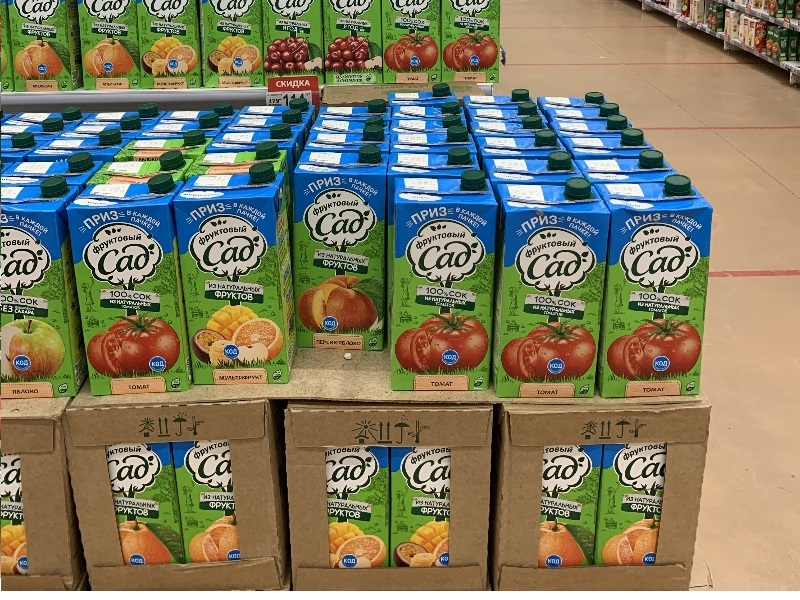juice: (71, 173, 200, 401), (595, 180, 722, 409), (174, 163, 301, 390), (492, 175, 613, 406), (386, 170, 501, 397), (284, 143, 392, 355)
